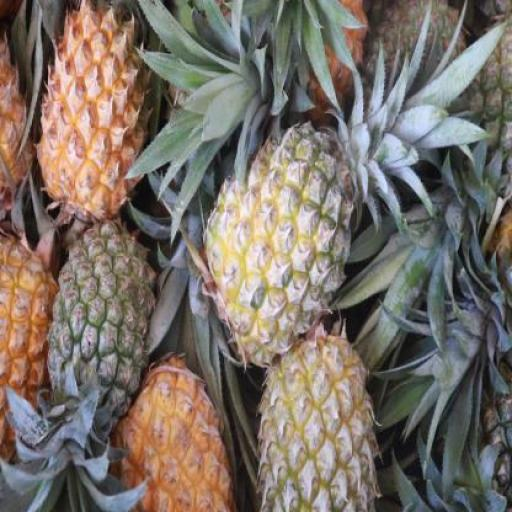------------------------------: (205, 121, 356, 368), (257, 327, 378, 512)
Pineapple - v8 v1: (36, 1, 148, 228), (114, 356, 228, 510)
